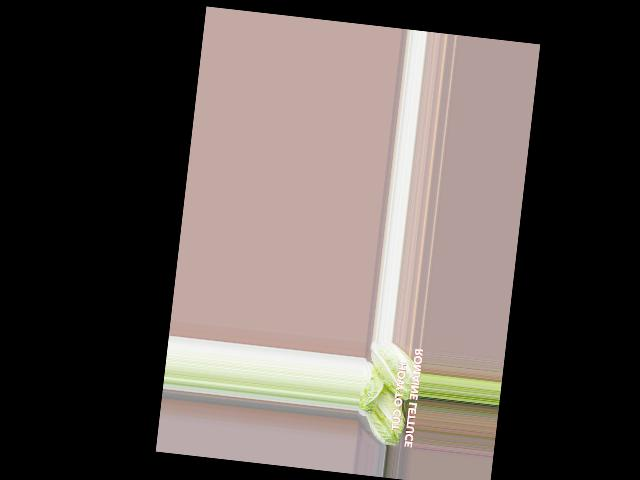lettuce: (359, 380, 413, 449)
